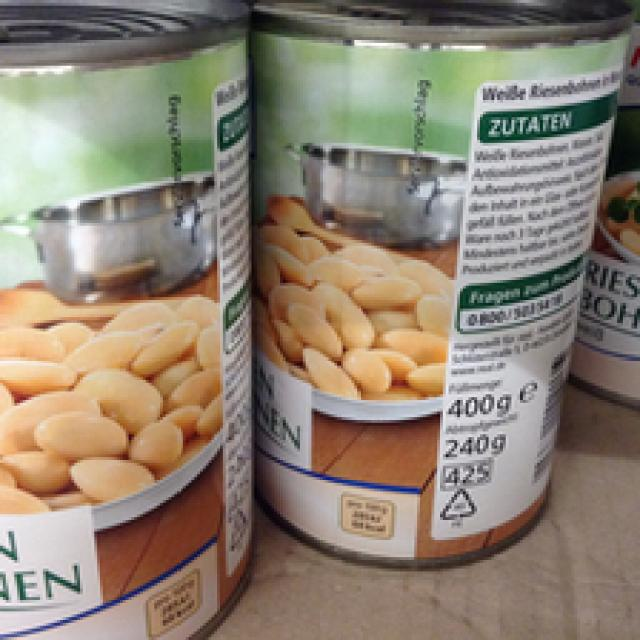groceries: (251, 3, 623, 577), (0, 3, 243, 637)
